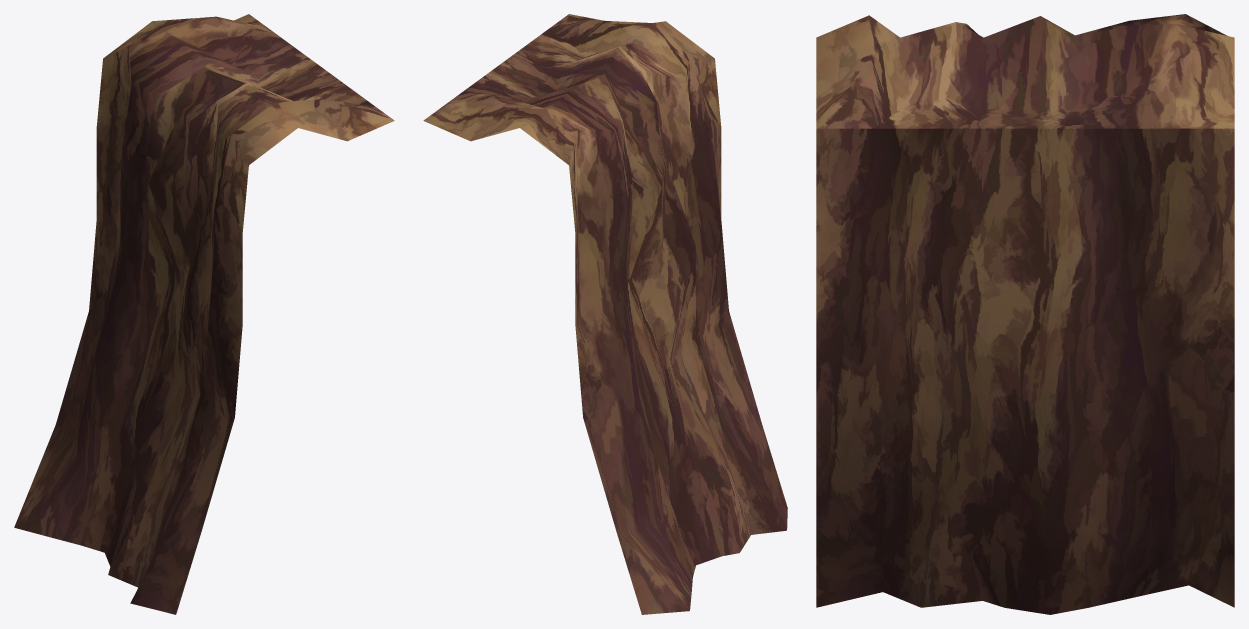
File: CaveWallStraight.obj
3 renders of one model, left to right at view 1: azimuth 30°, elevation 25°; view 2: azimuth 150°, elevation 25°; view 3: azimuth 270°, elevation 25°, orthographic. The views are drawn at different scales.
Visible parts, largest first — view 1: CaveWallStraight; view 2: CaveWallStraight; view 3: CaveWallStraight.
Part boxes in pixels (bbox=[...]): CaveWallStraight: bbox=[14, 14, 394, 614]; CaveWallStraight: bbox=[423, 14, 787, 614]; CaveWallStraight: bbox=[816, 14, 1234, 614].
Bounding box in the file's own units: 298 × 533 × 300.
Materials: 1 (1 with a texture image).
